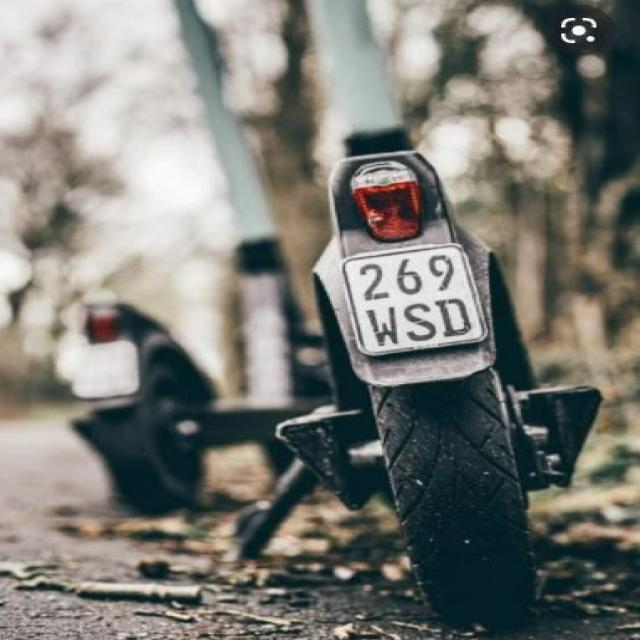license_plate: (338, 242, 488, 356)
